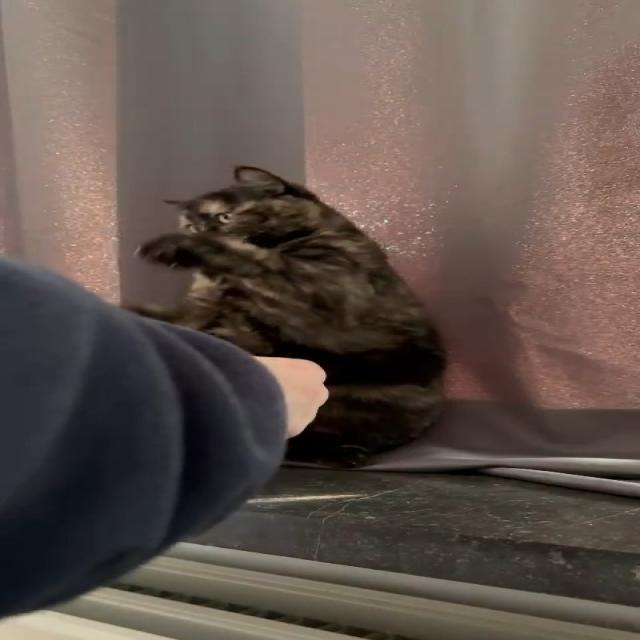authorized: (127, 164, 449, 468)
